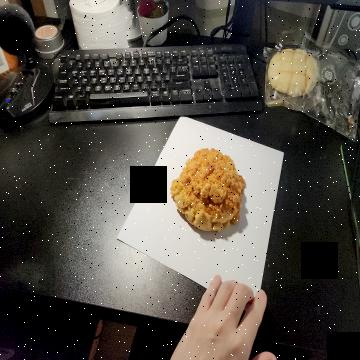soboru_bread: (169, 148, 249, 234)
